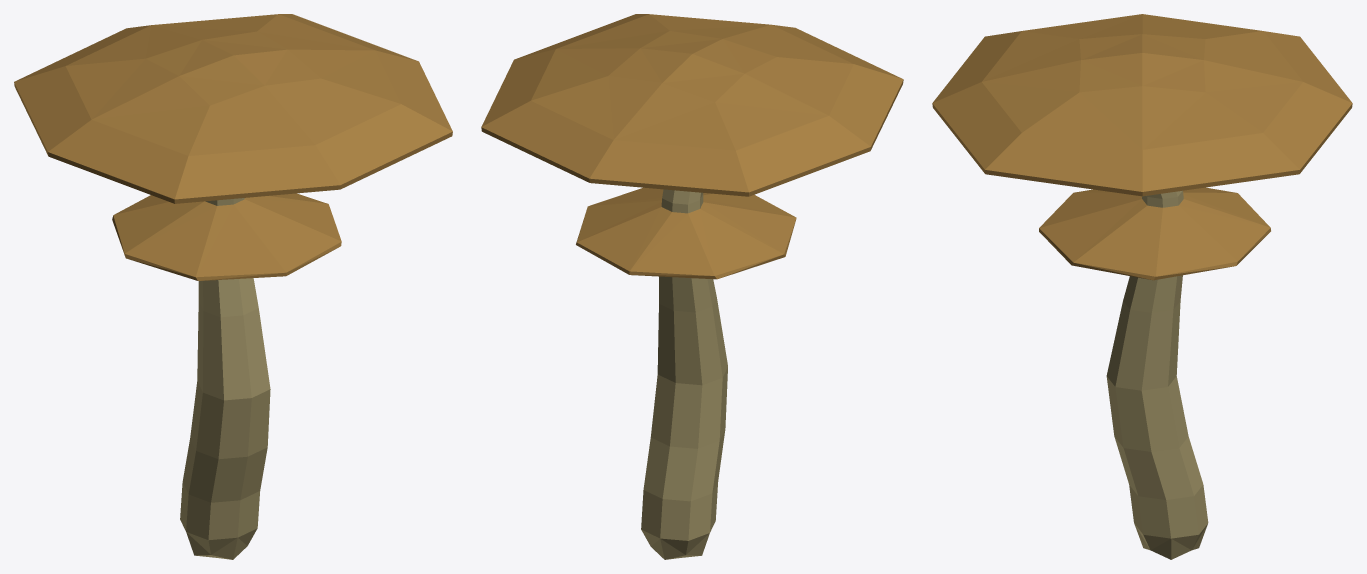
File: gereb2.obj
3 renders of one model, left to right at view 1: azimuth 30°, elevation 25°; view 2: azimuth 150°, elevation 25°; view 3: azimuth 270°, elevation 25°, orthographic. The views are drawn at different scales.
Parts seen in each view (by area): view 1: Cube.001_Cube.002; view 2: Cube.001_Cube.002; view 3: Cube.001_Cube.002.
Boxes of the visible parts, x1,y1,x2,y2 form: Cube.001_Cube.002: (14, 14, 452, 559); Cube.001_Cube.002: (481, 14, 903, 559); Cube.001_Cube.002: (932, 14, 1352, 559).
Size of the model in its own units: 3.9 by 5.16 by 3.9.
